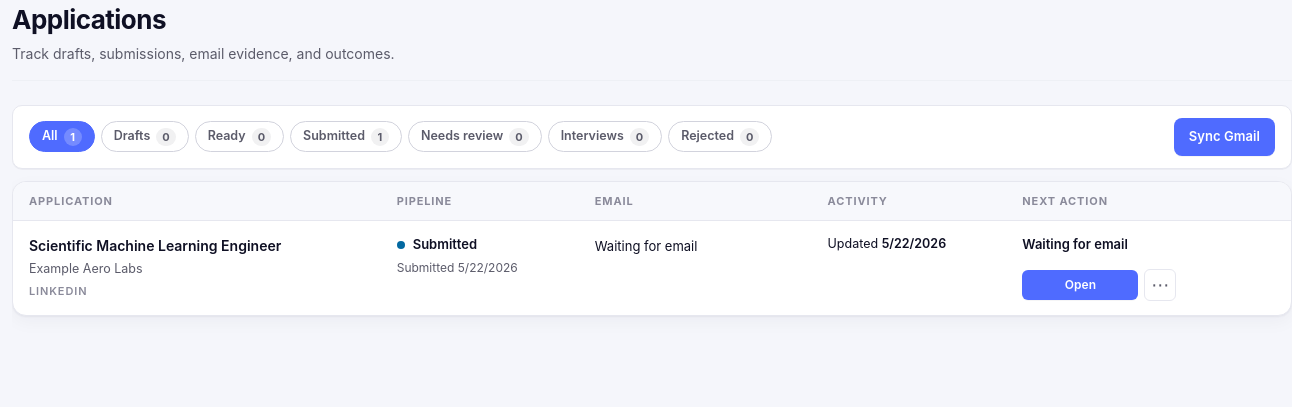
Test case: ApplicationsPage Sync Gmail › renders summary counts after sync
The image size is (1292, 407).
Expected: the heading "Applications" is shown, [12,4,166,35]
Click the button "Sync Gmail": (1224, 137) [1174,118,1275,156]
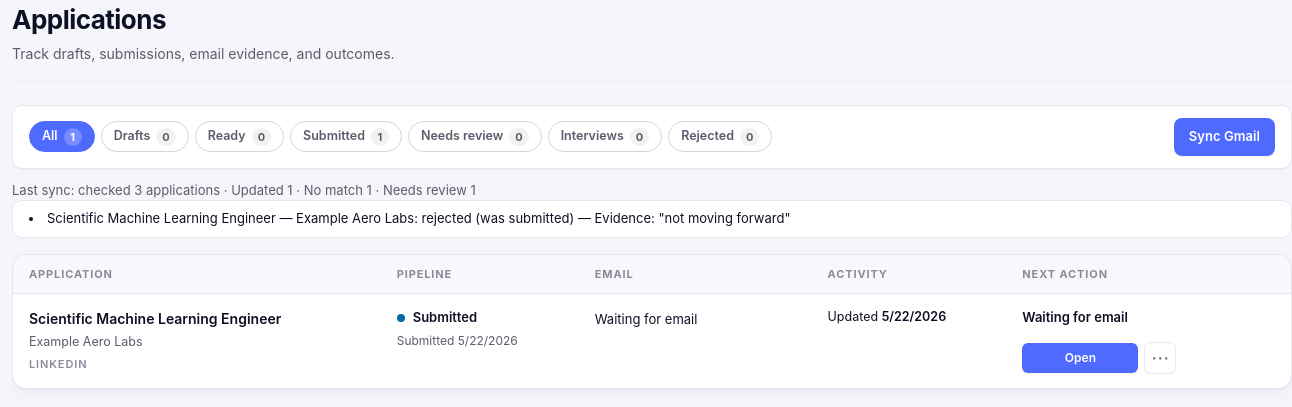
Expected: the text "Last sync: checked 3 applications · Updated 1 · No match 1 · Needs review 1" is shown, [12,182,476,198]
Expected: the list item "not moving forward" is shown, [574,210,790,226]
